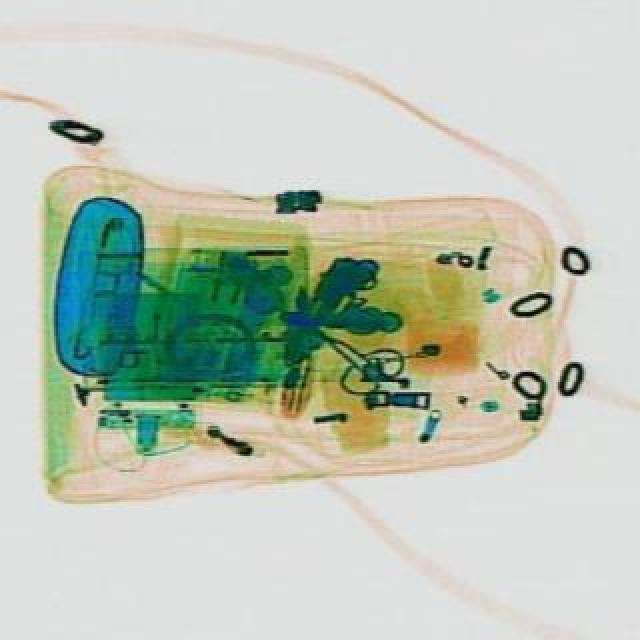pliers: (282, 296, 408, 408)
